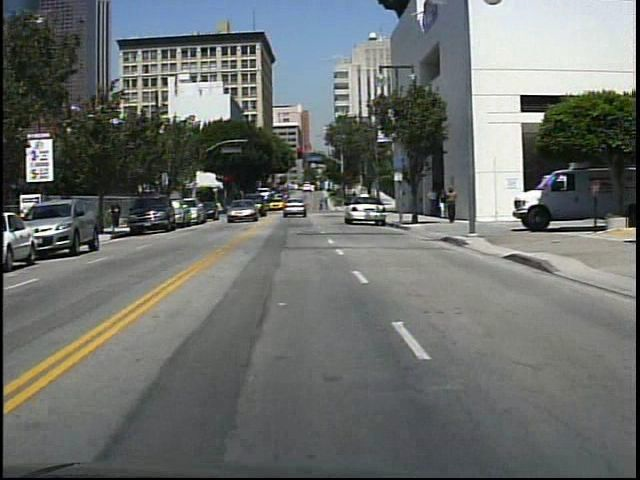person: (444, 184, 459, 224), (111, 199, 126, 231), (427, 186, 439, 218), (213, 197, 227, 220), (438, 189, 448, 220)
